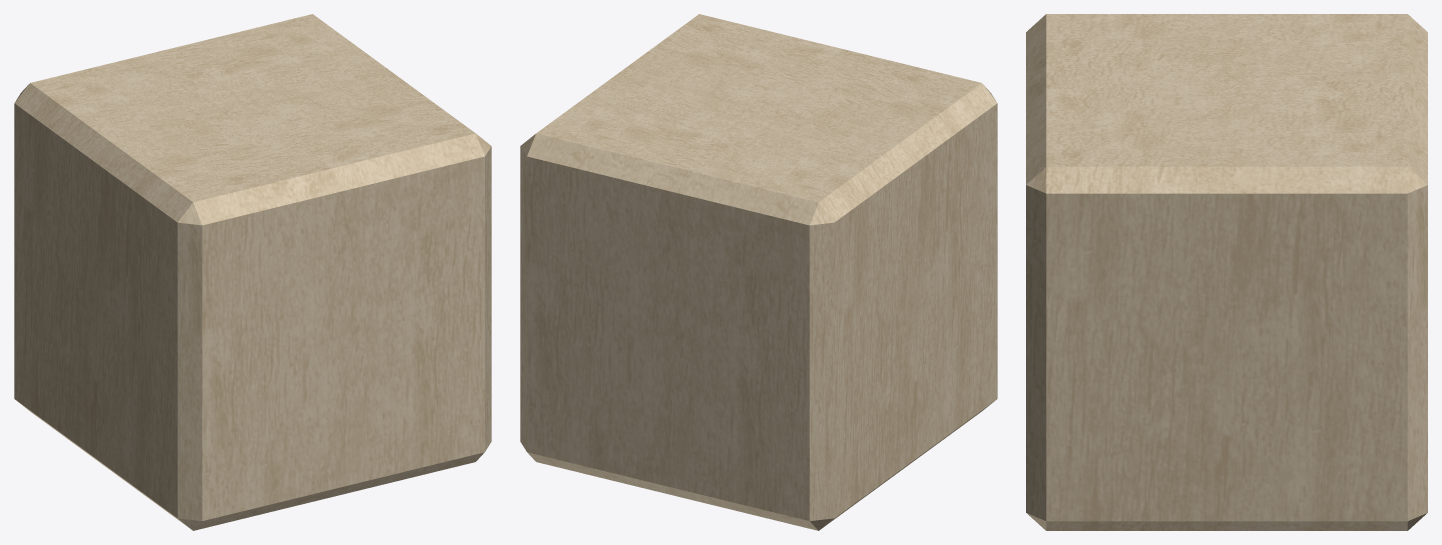
File: block_x1.glb
3 renders of one model, left to right at view 1: azimuth 30°, elevation 25°; view 2: azimuth 150°, elevation 25°; view 3: azimuth 270°, elevation 25°, orthographic. The views are drawn at different scales.
Visible parts, largest first — view 1: block; view 2: block; view 3: block.
Part boxes in pixels (x1,y1,x2,y2): block: (14, 14, 491, 530); block: (520, 14, 997, 530); block: (1026, 14, 1427, 530).
Size of the model in its own units: 2 by 2 by 2.
1 material, 1 textured.
